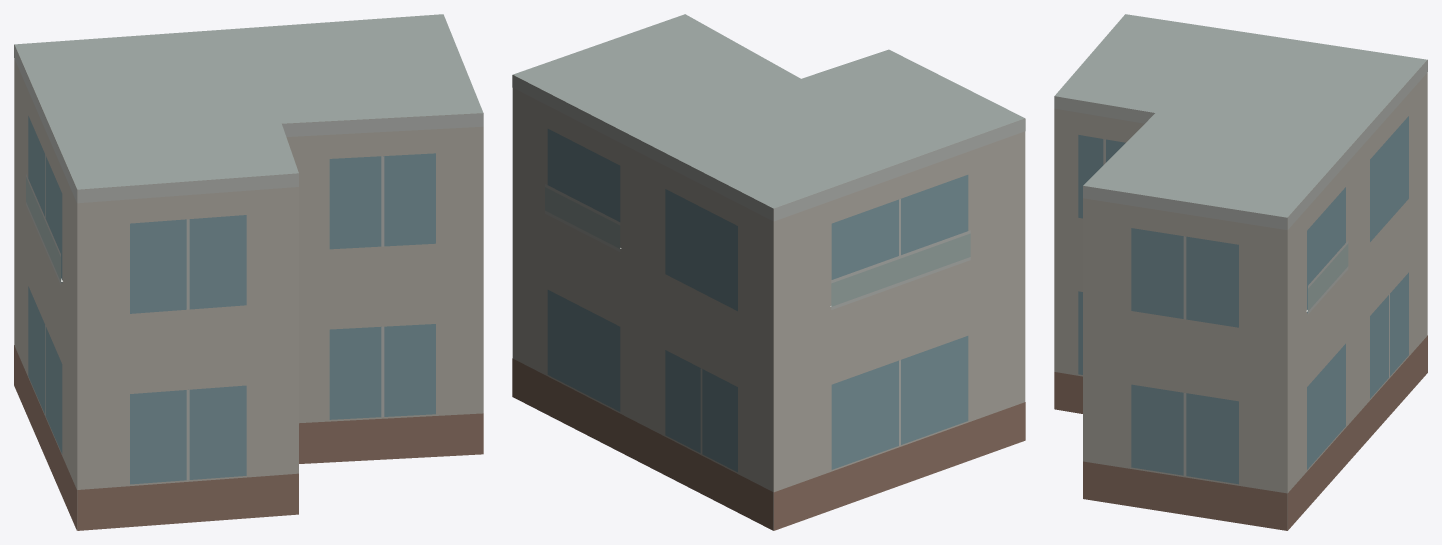
File: survey-upis-32810676.glb
3 views of the same model, side by side, from view 1: azimuth 30°, elevation 25°; view 2: azimuth 150°, elevation 25°; view 3: azimuth 270°, elevation 25° (orthographic). The views are drawn at different scales.
Visible parts, largest first — view 1: survey-upis-32810676.tmp; view 2: survey-upis-32810676.tmp; view 3: survey-upis-32810676.tmp.
Part boxes in pixels (left/top/right/bottom): survey-upis-32810676.tmp: left=14, top=14, right=483, bottom=530; survey-upis-32810676.tmp: left=512, top=14, right=1025, bottom=530; survey-upis-32810676.tmp: left=1054, top=14, right=1427, bottom=530.
Size of the model in its own units: 8.52 by 6.1 by 6.6.
